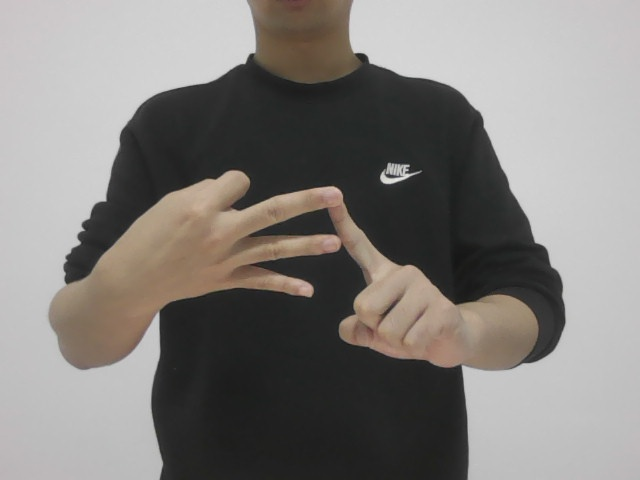name: (126, 169, 477, 375)
